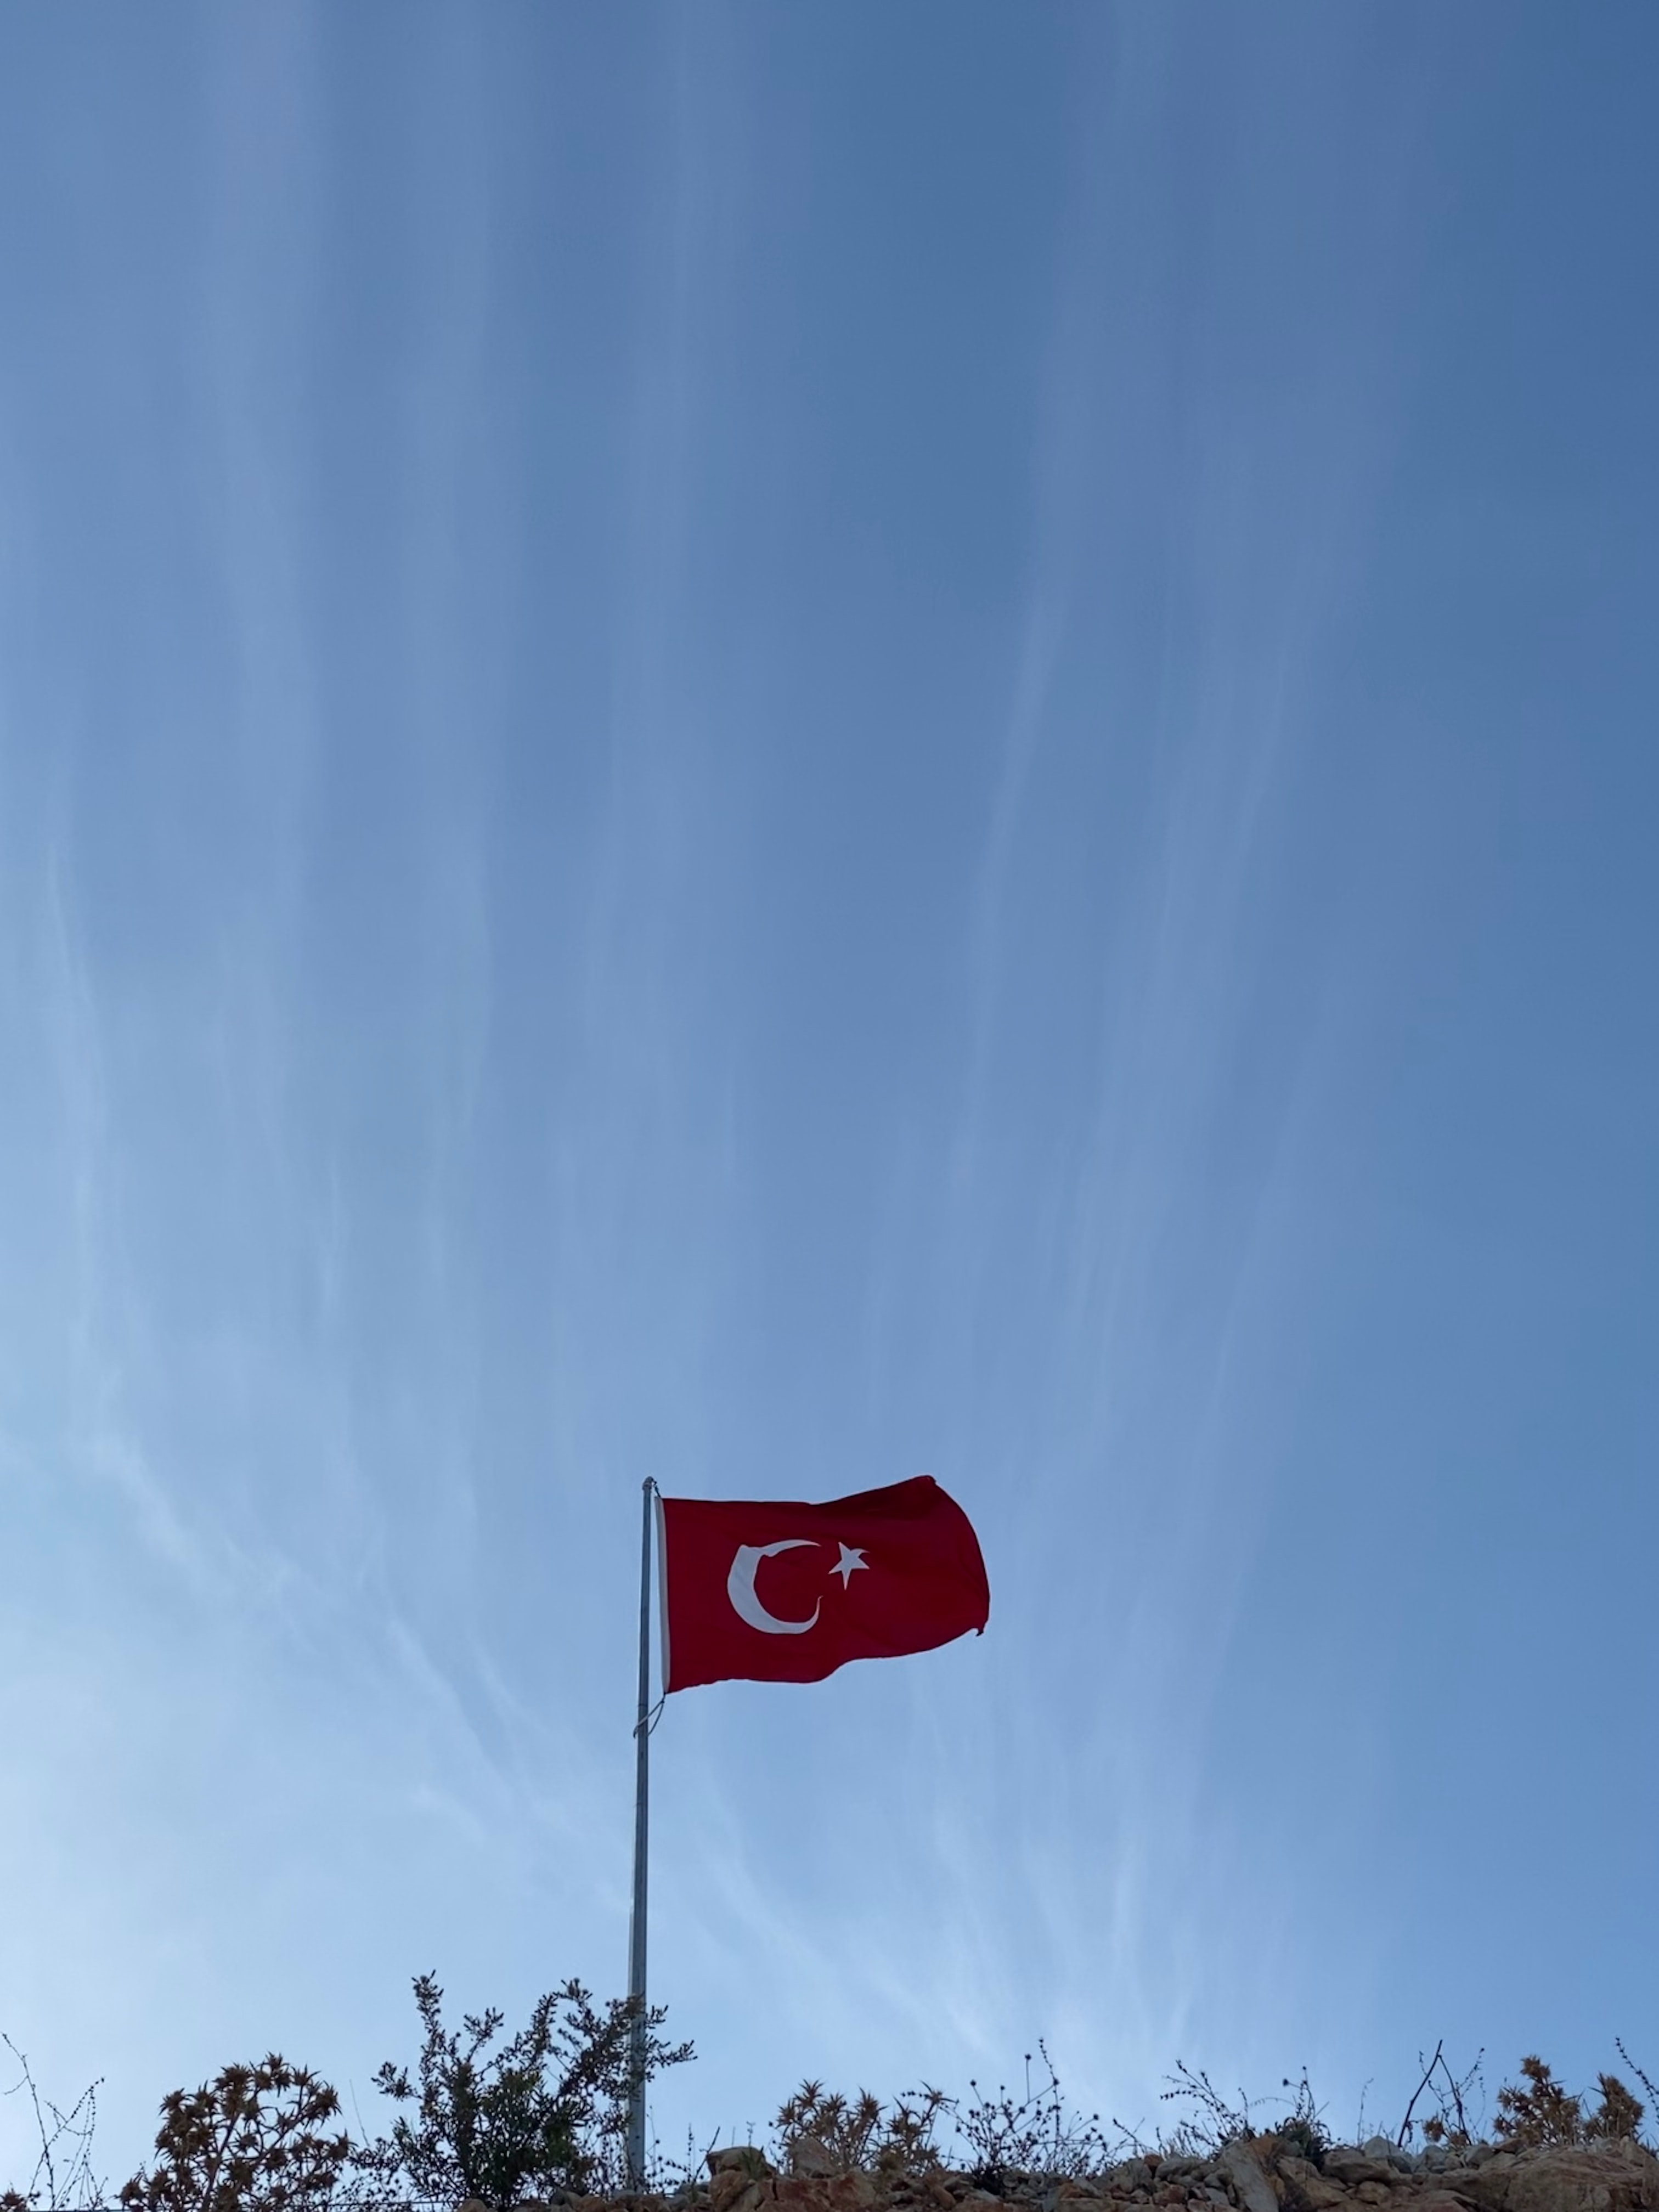Flag: (640, 1468, 990, 1700)
